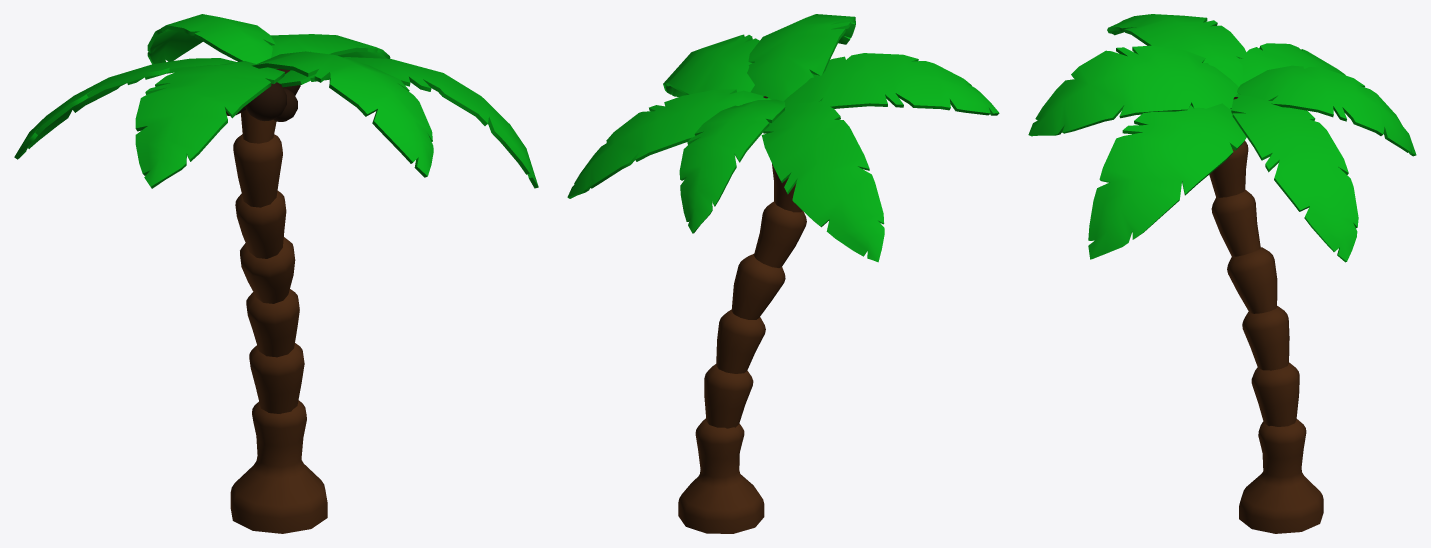
File: palmaMult.fbx
3 views of the same model, side by side, from view 1: azimuth 30°, elevation 25°; view 2: azimuth 150°, elevation 25°; view 3: azimuth 270°, elevation 25° (orthographic). The views are drawn at different scales.
Visible parts, largest first — view 1: palma.001; view 2: palma.001; view 3: palma.001.
Part boxes in pixels (x1,y1,x2,y2): palma.001: (14, 14, 538, 533); palma.001: (567, 14, 999, 533); palma.001: (1028, 14, 1416, 533).
Bounding box in the file's own units: 278 × 368 × 289.
